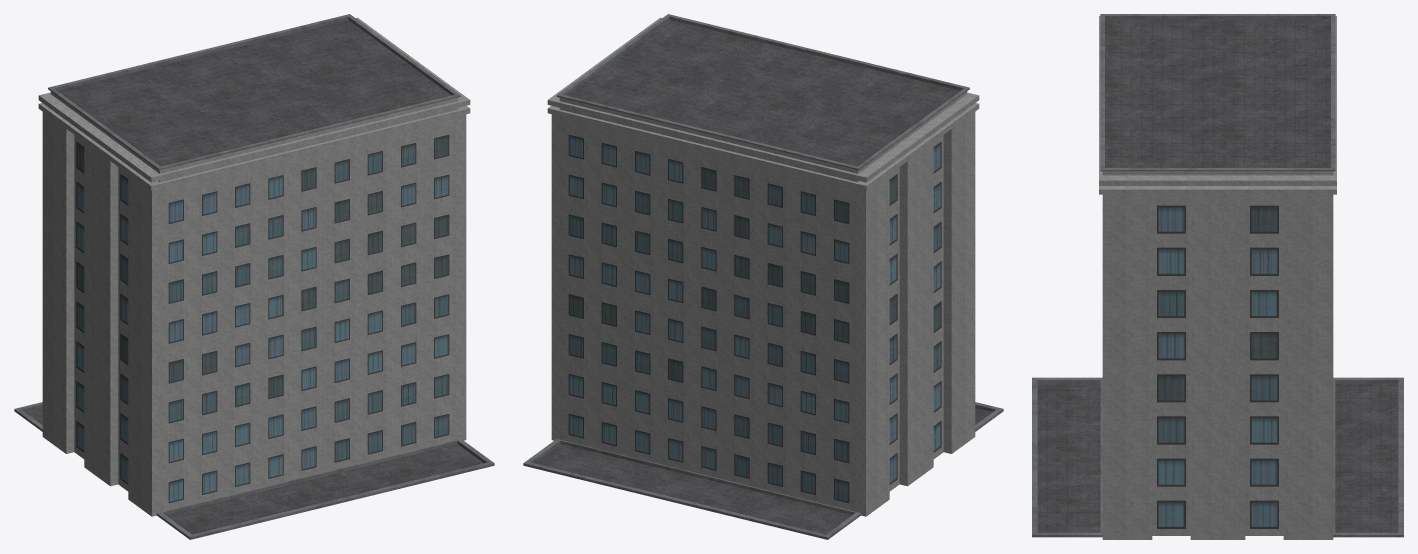
Rendered from jctBld24_D_top_low.fbx.
The picture shows the model from 3 angles, left to right: view 1: azimuth 30°, elevation 25°; view 2: azimuth 150°, elevation 25°; view 3: azimuth 270°, elevation 25°; orthographic projection. The views are drawn at different scales.
Parts seen in each view (by area): view 1: jctBld24_D_top_low; view 2: jctBld24_D_top_low; view 3: jctBld24_D_top_low.
Part boxes in pixels (box(x1,y1,x2,y2)): jctBld24_D_top_low: box(14, 14, 494, 539); jctBld24_D_top_low: box(523, 14, 1003, 539); jctBld24_D_top_low: box(1032, 14, 1403, 539).
Bounding box in the file's own units: 2511 × 2618 × 2398.
